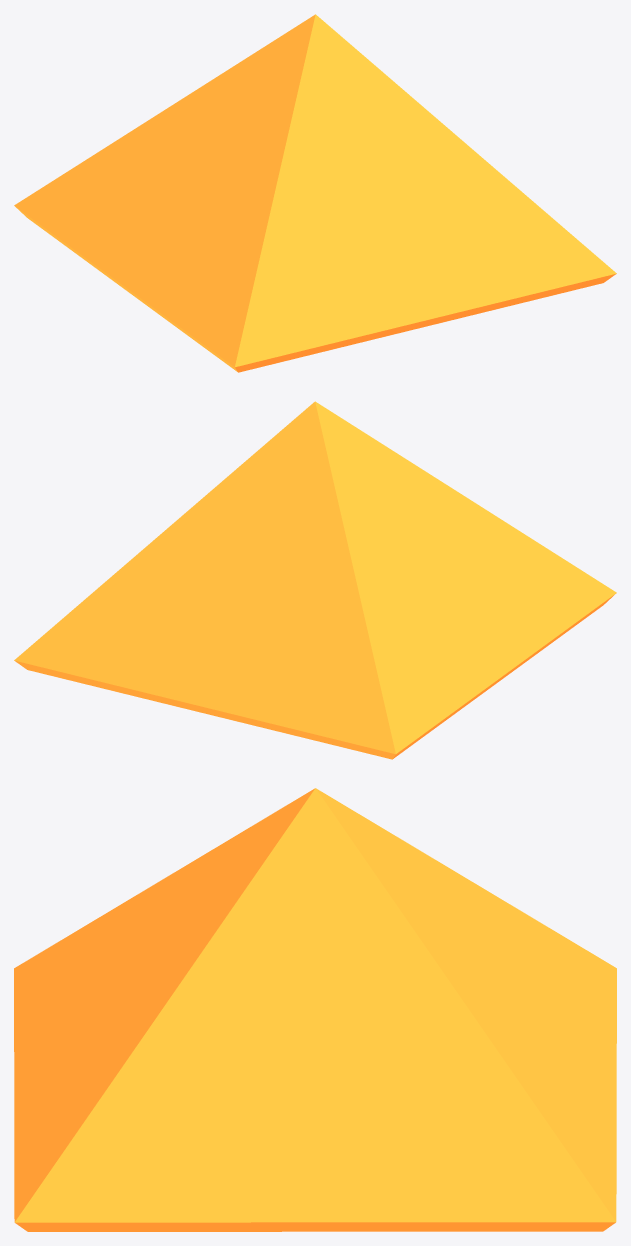
File: inner_pyramid_top.glb
3 views of the same model, one above another, from view 1: azimuth 30°, elevation 25°; view 2: azimuth 150°, elevation 25°; view 3: azimuth 270°, elevation 25° (orthographic). The views are drawn at different scales.
Visible parts, largest first — view 1: inner pyramid top; view 2: inner pyramid top; view 3: inner pyramid top.
Boxes of the visible parts, left/top/right/bottom form: inner pyramid top: left=14, top=14, right=616, bottom=372; inner pyramid top: left=14, top=401, right=616, bottom=759; inner pyramid top: left=14, top=788, right=616, bottom=1231.
Bounding box in the file's own units: 0.247 × 0.146 × 0.2472.
